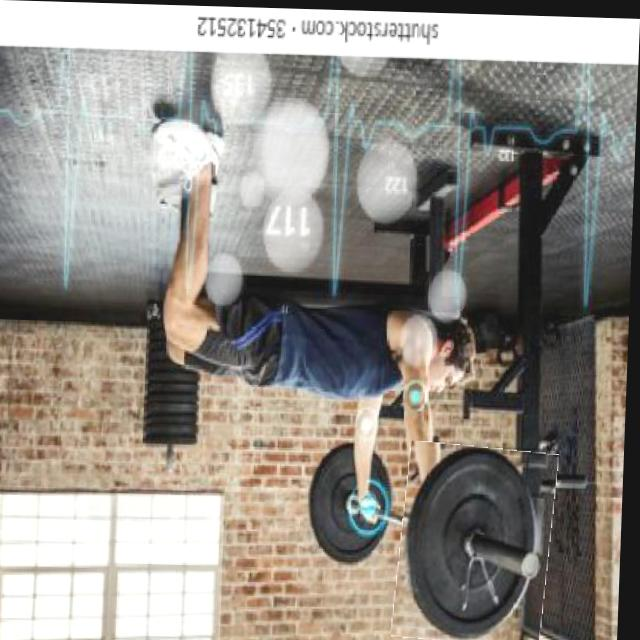barbell: (400, 440, 560, 640)
